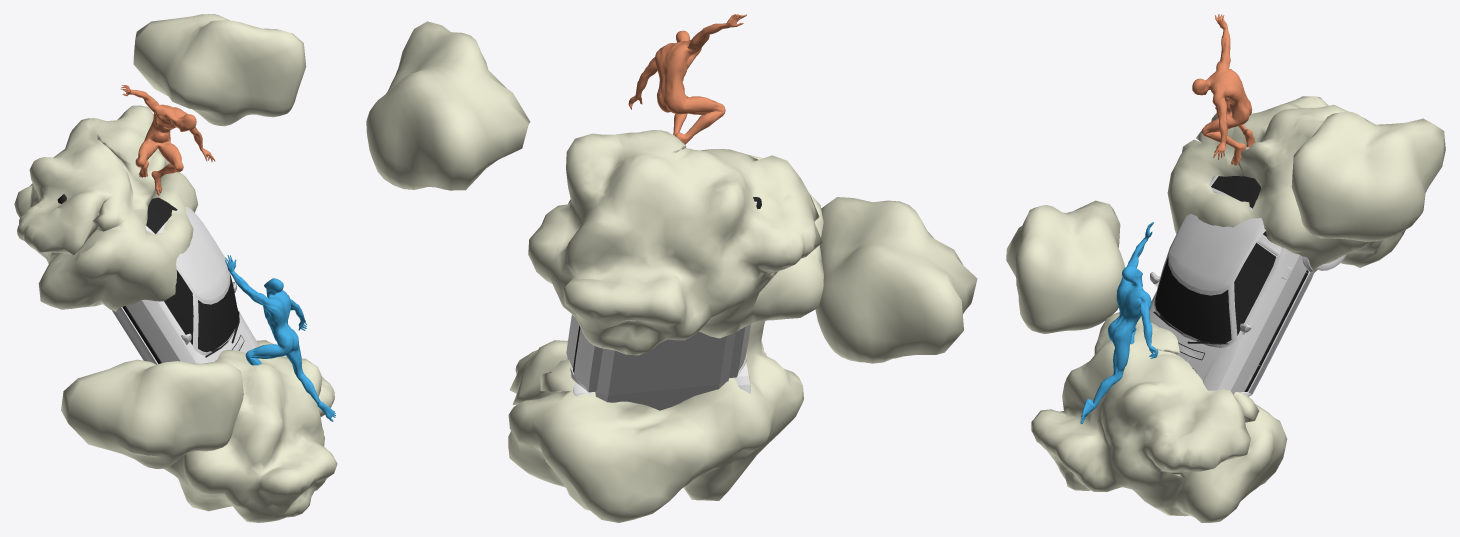
Rendered from cgc2.glb.
The picture shows the model from 3 angles, left to right: view 1: azimuth 30°, elevation 25°; view 2: azimuth 150°, elevation 25°; view 3: azimuth 270°, elevation 25°; orthographic projection. The views are drawn at different scales.
Visible parts, largest first — view 1: Ch30.001; view 2: Ch30.001; view 3: Ch30.001.
Part boxes in pixels (x1,y1,x2,y2): Ch30.001: [14, 14, 337, 522]; Ch30.001: [366, 14, 977, 522]; Ch30.001: [1006, 14, 1445, 522].
Size of the model in its own units: 9.67 by 11.45 by 10.44.
